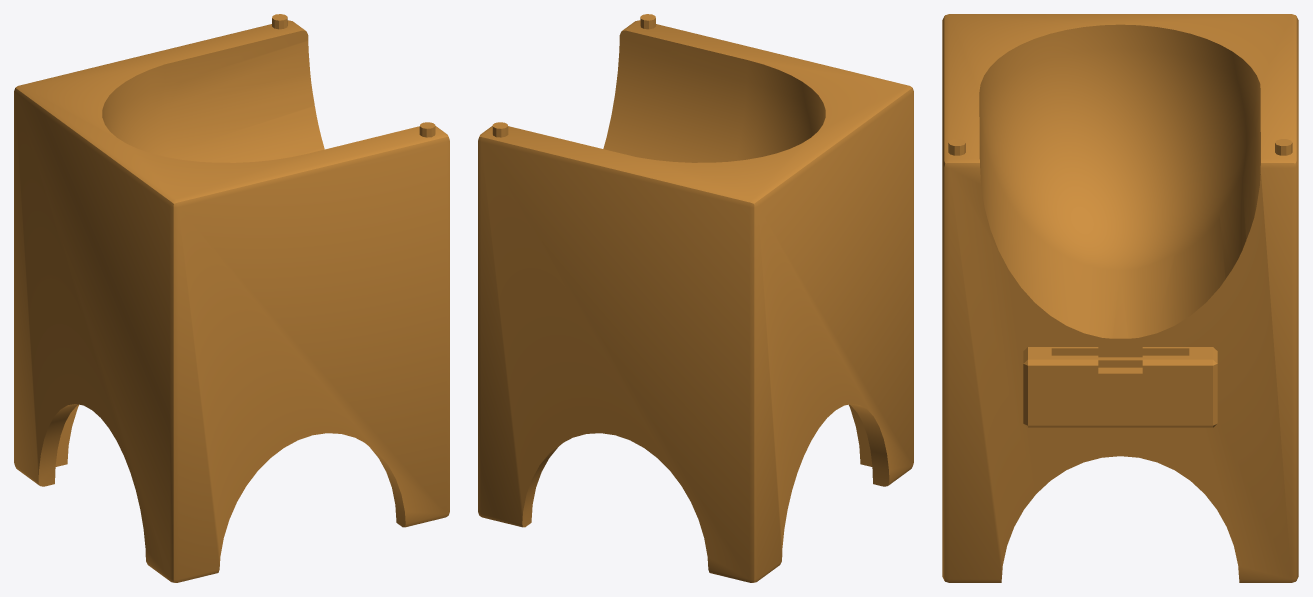
3 renders of one model, left to right at view 1: azimuth 30°, elevation 25°; view 2: azimuth 150°, elevation 25°; view 3: azimuth 270°, elevation 25°, orthographic. The views are drawn at different scales.
Visible parts, largest first — view 1: B-02; view 2: B-02; view 3: B-02.
Part boxes in pixels (bbox=[...]): B-02: bbox=[14, 14, 449, 582]; B-02: bbox=[478, 14, 913, 582]; B-02: bbox=[942, 14, 1298, 582].
Bounding box in the file's own units: 0.0448 × 0.0542 × 0.0404.
